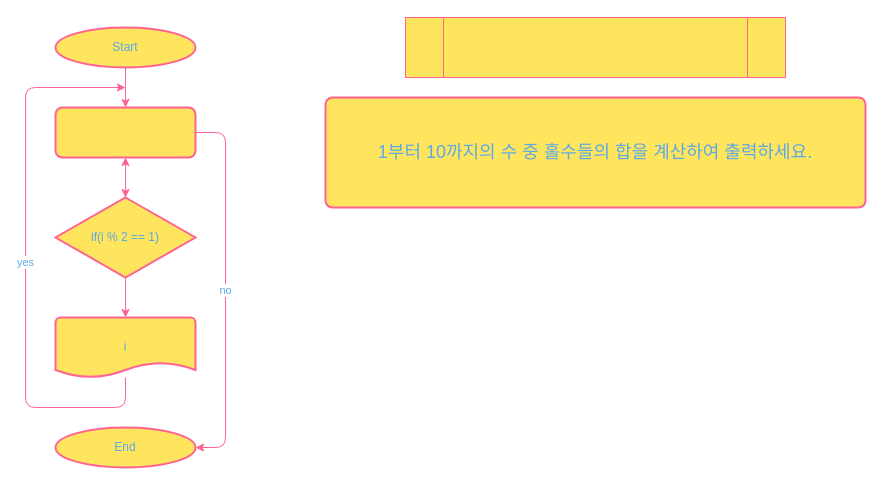
The diagram is 884 pixels wide and 486 high, and some of its shapes have lost their labels. Each missing label, with the centre of its shape:
"for(var i = 1; i <= 10; i++)" belongs at (125,132).
"if statement" belongs at (595,47).
